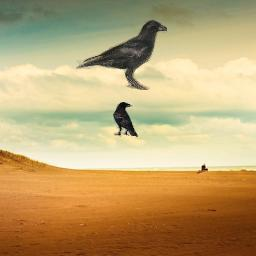Crow: (76, 19, 167, 90), (113, 102, 138, 137)
